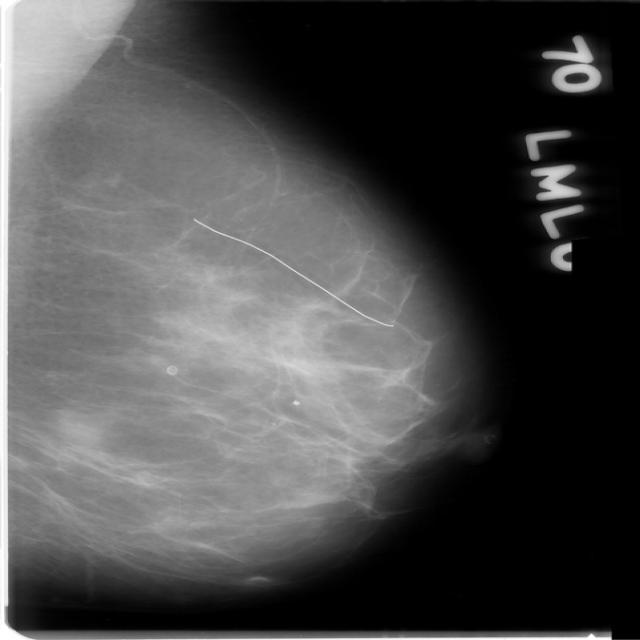tumour: (53, 405, 104, 444)
